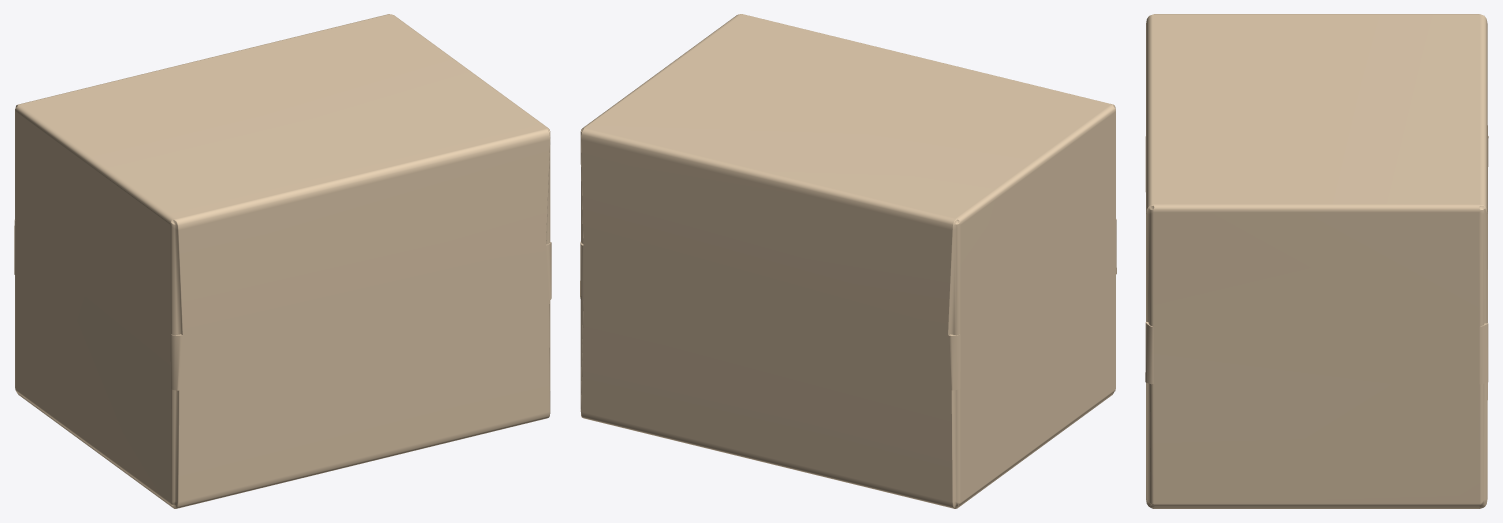
Rendered from box_cardboard_a01.glb.
The picture shows the model from 3 angles, left to right: view 1: azimuth 30°, elevation 25°; view 2: azimuth 150°, elevation 25°; view 3: azimuth 270°, elevation 25°; orthographic projection. The views are drawn at different scales.
Parts seen in each view (by area): view 1: sm_box_a01_mesh_00; view 2: sm_box_a01_mesh_00; view 3: sm_box_a01_mesh_00.
Boxes of the visible parts, bbox=[...] form: sm_box_a01_mesh_00: bbox=[14, 14, 551, 508]; sm_box_a01_mesh_00: bbox=[580, 14, 1116, 508]; sm_box_a01_mesh_00: bbox=[1145, 14, 1488, 508].
Size of the model in its own units: 0.6994 by 0.5099 by 0.5212.
